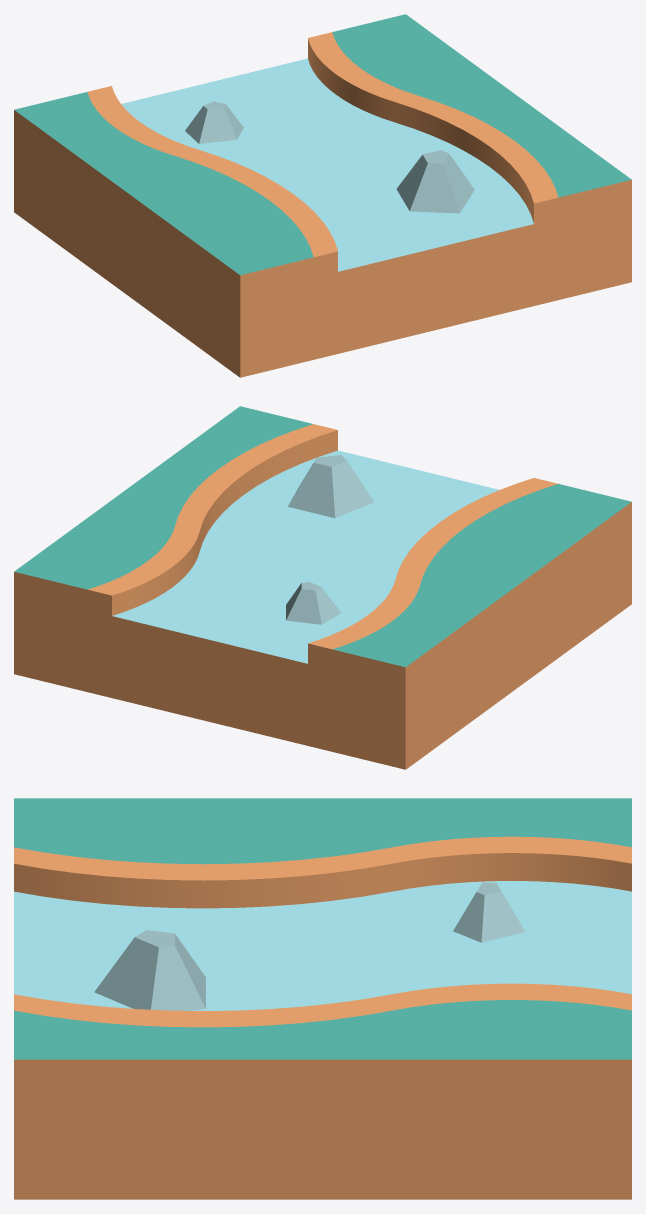
File: ground_dirtRiverRocks.fbx
The picture shows the model from 3 angles, top to bottom: view 1: azimuth 30°, elevation 25°; view 2: azimuth 150°, elevation 25°; view 3: azimuth 270°, elevation 25°; orthographic projection. The views are drawn at different scales.
Visible parts, largest first — view 1: ground_dirtRiverRocks; view 2: ground_dirtRiverRocks; view 3: ground_dirtRiverRocks.
Boxes of the visible parts, x1,y1,x2,y2 form: ground_dirtRiverRocks: [14, 14, 631, 377]; ground_dirtRiverRocks: [14, 406, 631, 769]; ground_dirtRiverRocks: [14, 798, 631, 1199].
Bounding box in the file's own units: 10 × 2.96 × 10.
